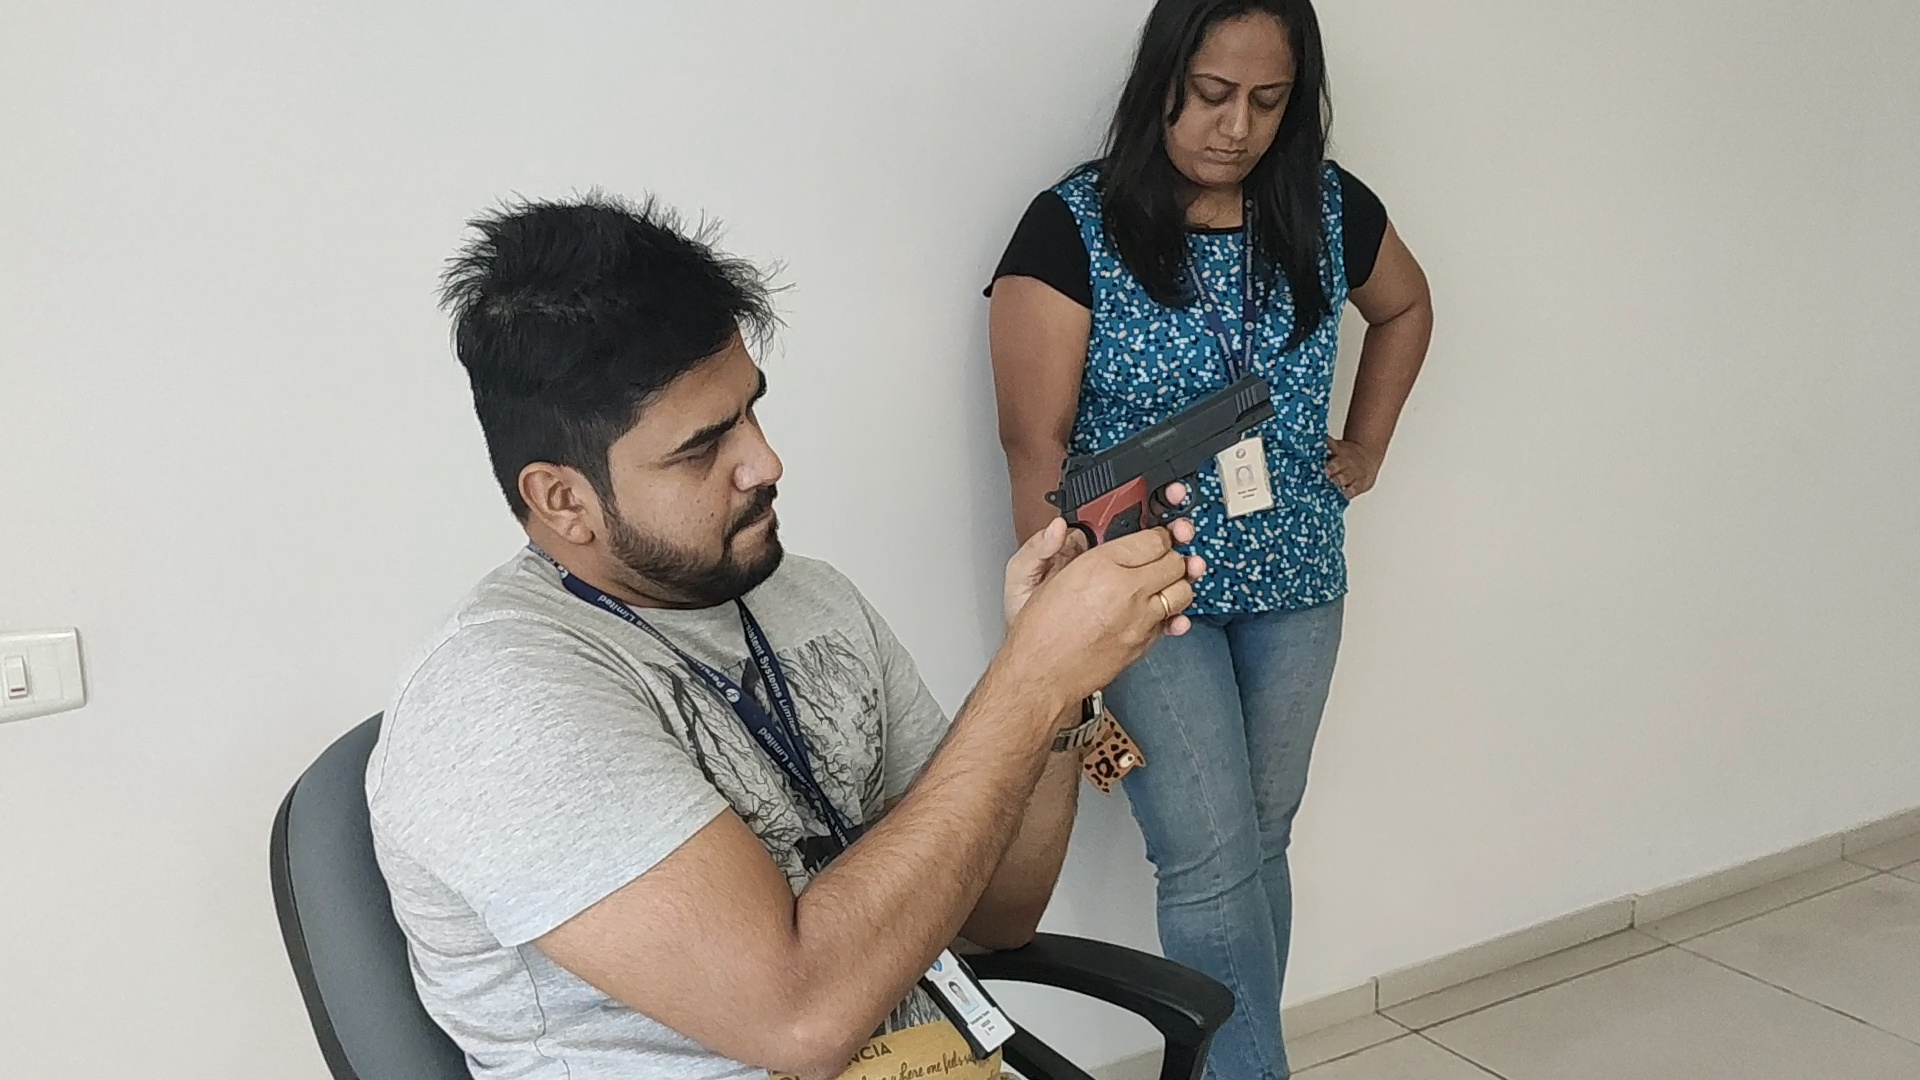gun: (1044, 372, 1276, 516)
